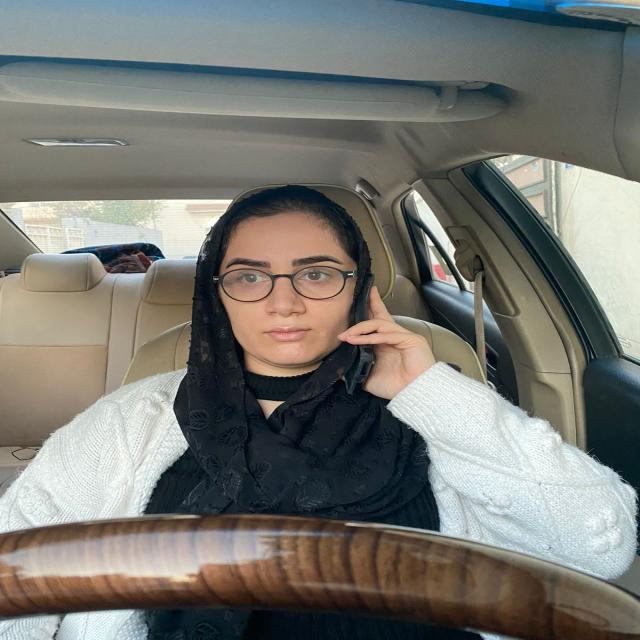mobile: (349, 267, 380, 405)
person: (212, 202, 356, 370)
